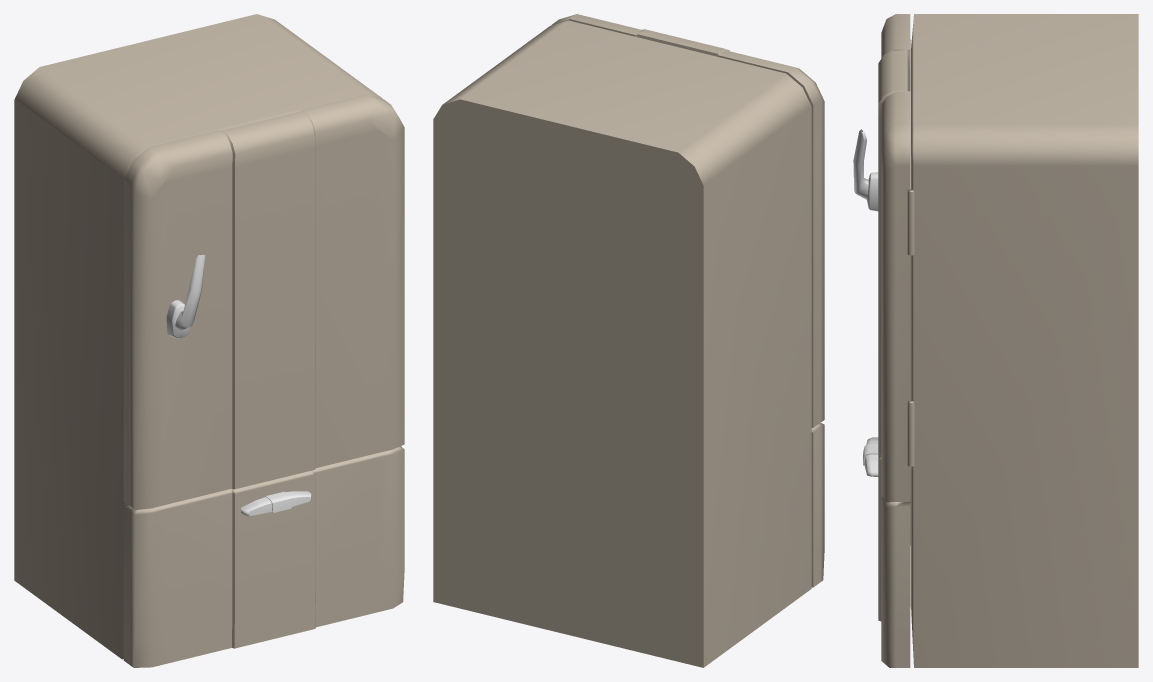
The model's file is Kyl.fbx.
3 renders of one model, left to right at view 1: azimuth 30°, elevation 25°; view 2: azimuth 150°, elevation 25°; view 3: azimuth 270°, elevation 25°, orthographic. The views are drawn at different scales.
Parts seen in each view (by area): view 1: Door, Kyl; view 2: Kyl, Door; view 3: Kyl, Door.
Part boxes in pixels (left/top/right/bottom): Door: left=123, top=94, right=404, bottom=667; Kyl: left=14, top=14, right=382, bottom=659; Kyl: left=433, top=20, right=811, bottom=667; Door: left=552, top=14, right=824, bottom=587; Kyl: left=907, top=14, right=1138, bottom=667; Door: left=853, top=14, right=910, bottom=667.
Bounding box in the file's own units: 102 × 180 × 87.83.
